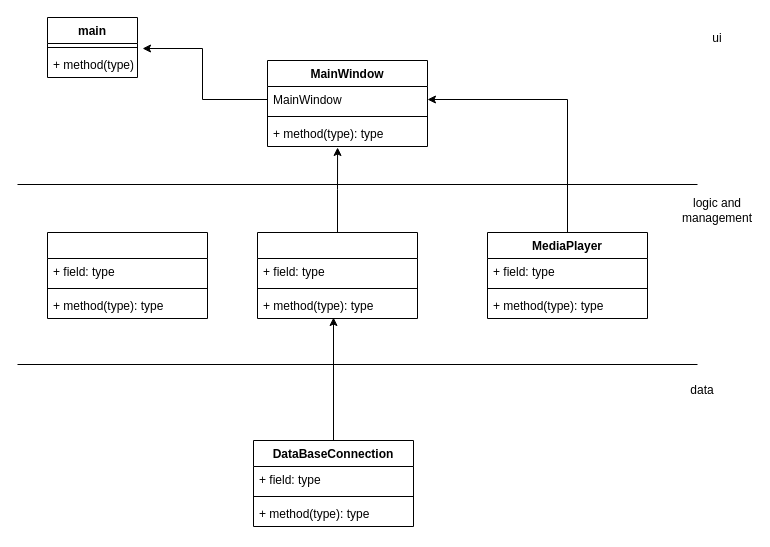
Some shapes in this 770 by 547 pixel diagram are drawn without their labels. Here are the shapes that lost their labels. From the top down, the box of each, then its label:
(46, 232, 208, 318): DataModel
(256, 232, 418, 318): Soundpp
